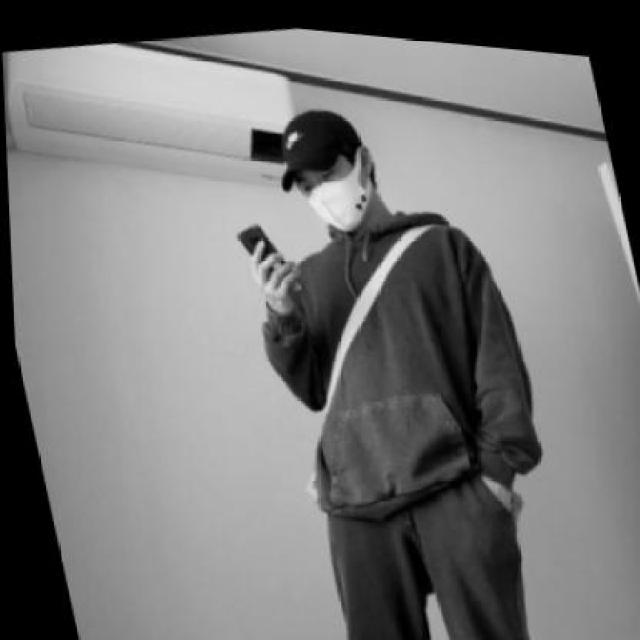hat: (266, 92, 371, 191)
